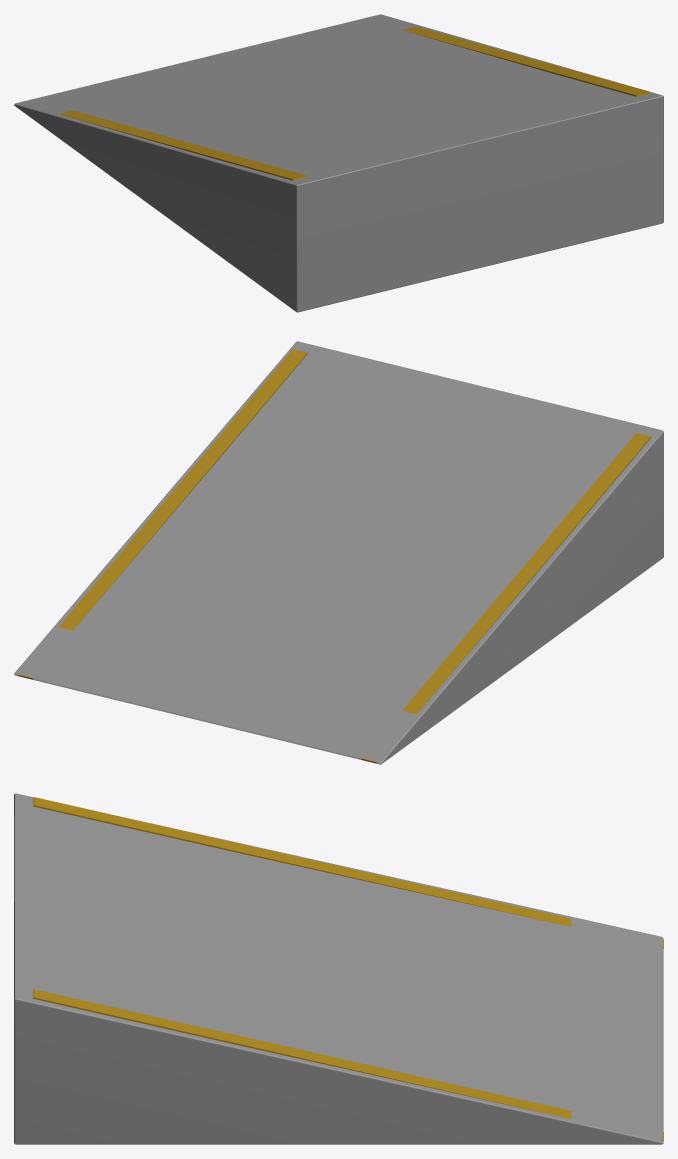
The model's file is Ramp_Concrete.fbx.
3 views of the same model, one above another, from view 1: azimuth 30°, elevation 25°; view 2: azimuth 150°, elevation 25°; view 3: azimuth 270°, elevation 25° (orthographic). The views are drawn at different scales.
Visible parts, largest first — view 1: Ramp_Concrete_LOD0; view 2: Ramp_Concrete_LOD0; view 3: Ramp_Concrete_LOD0.
Part boxes in pixels (x1,y1,x2,y2): Ramp_Concrete_LOD0: (14, 14, 663, 312); Ramp_Concrete_LOD0: (14, 341, 663, 764); Ramp_Concrete_LOD0: (14, 793, 663, 1144).
Size of what is drawn, in the model's own units: 3 by 0.9976 by 4.
